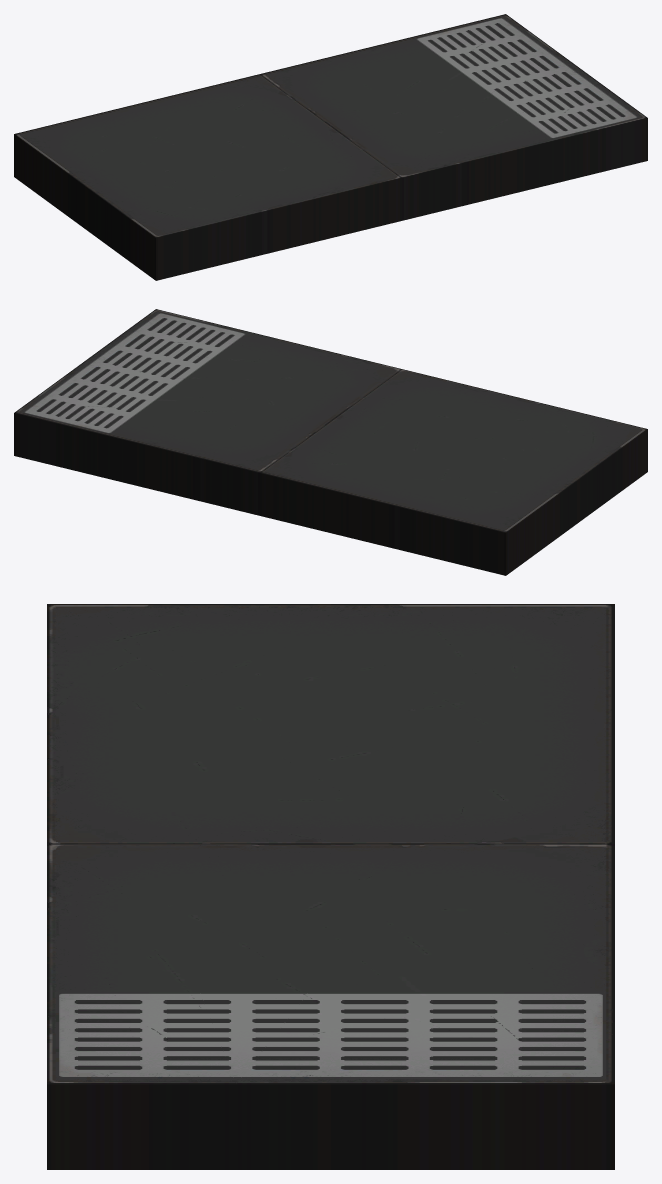
Rendered from Floor03.dae.
3 renders of one model, top to bottom at view 1: azimuth 30°, elevation 25°; view 2: azimuth 150°, elevation 25°; view 3: azimuth 270°, elevation 25°, orthographic. The views are drawn at different scales.
Parts seen in each view (by area): view 1: polySurface1; view 2: polySurface1; view 3: polySurface1.
Part boxes in pixels (x1=…): polySurface1: x1=14, y1=14, x2=647, y2=280; polySurface1: x1=14, y1=309, x2=647, y2=575; polySurface1: x1=47, y1=604, x2=614, y2=1169.
Size of the model in its own units: 6 by 0.5 by 3.
1 material, 1 textured.
